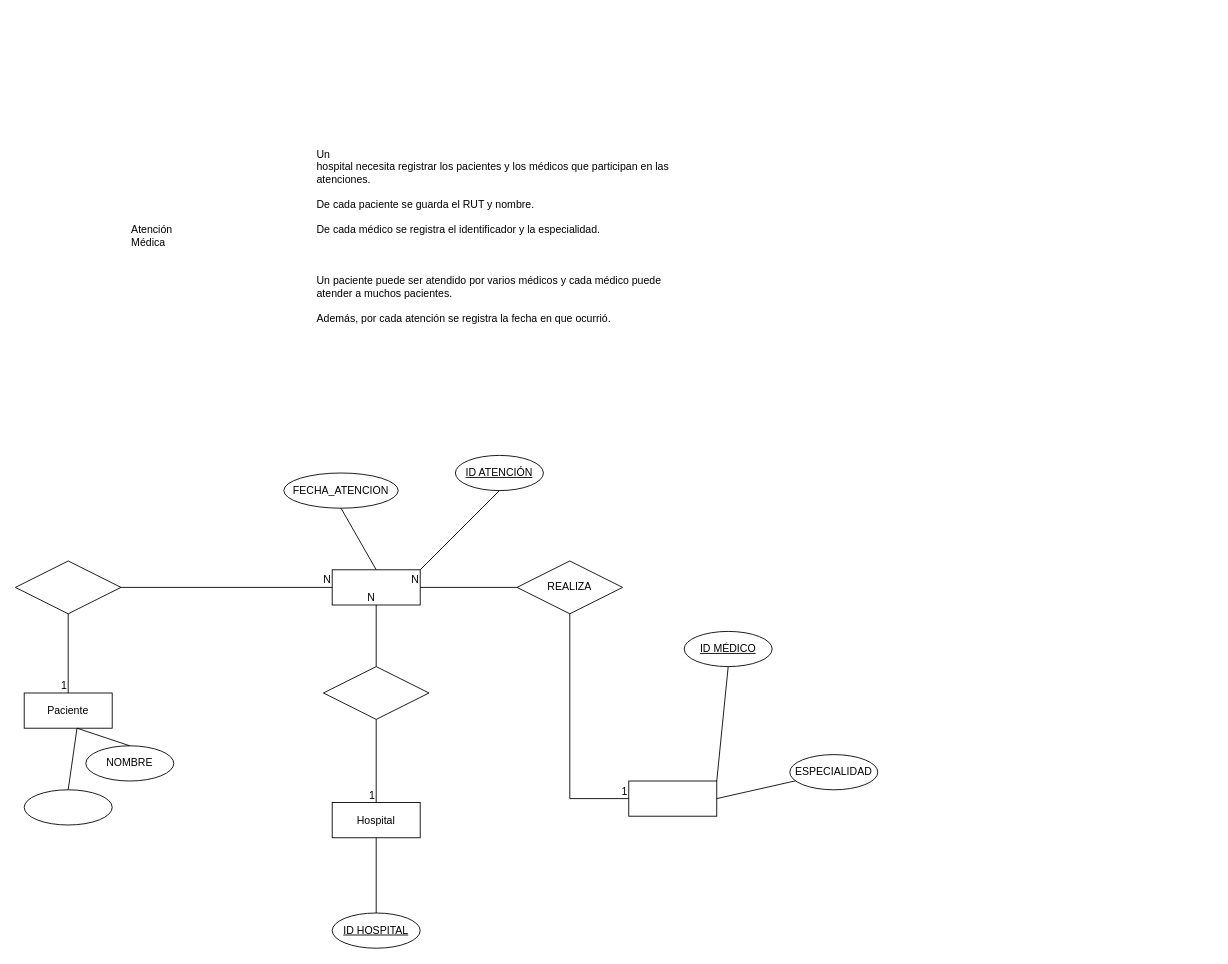
Some shapes in this 1228 by 964 pixel diagram are drawn without their labels. The shapes that lost their labels are listed below. From the top down, each one's box as (x1, y1, x2, y2) in pixels, then its label:
(15, 560, 121, 614): RECIBE
(331, 569, 420, 605): Atención
(323, 666, 429, 719): REGISTRA
(23, 789, 112, 825): RUT
(628, 780, 717, 816): Médico
